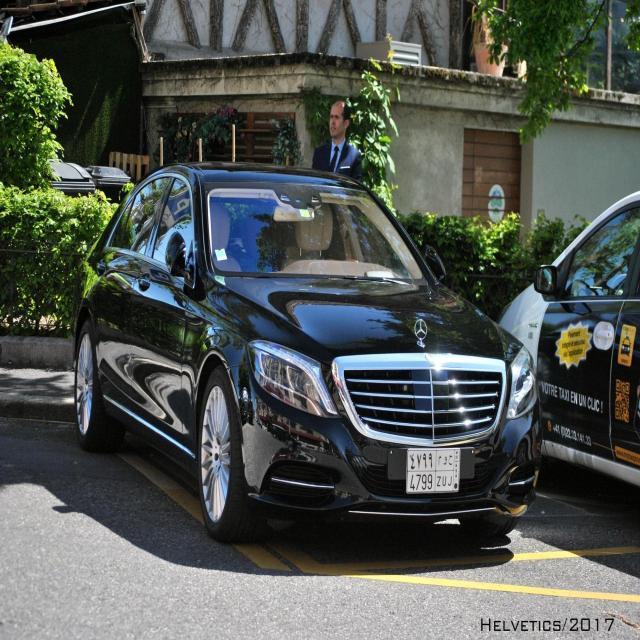license_plate: (402, 442, 462, 496)
